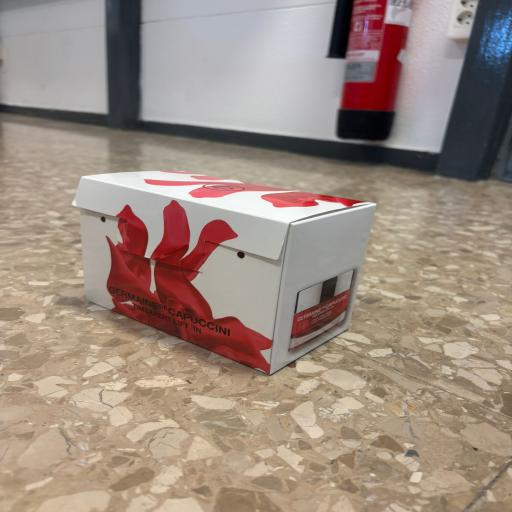caja_2: (73, 172, 375, 374)
